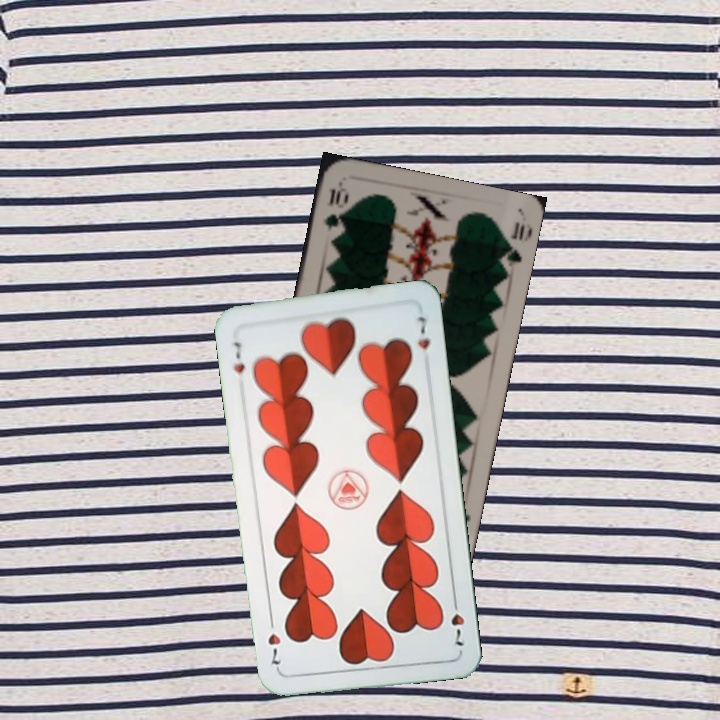G10: (319, 180, 350, 235)
H7: (447, 593, 467, 649), (229, 337, 248, 376)
